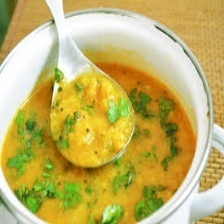dal: (0, 53, 195, 224)
